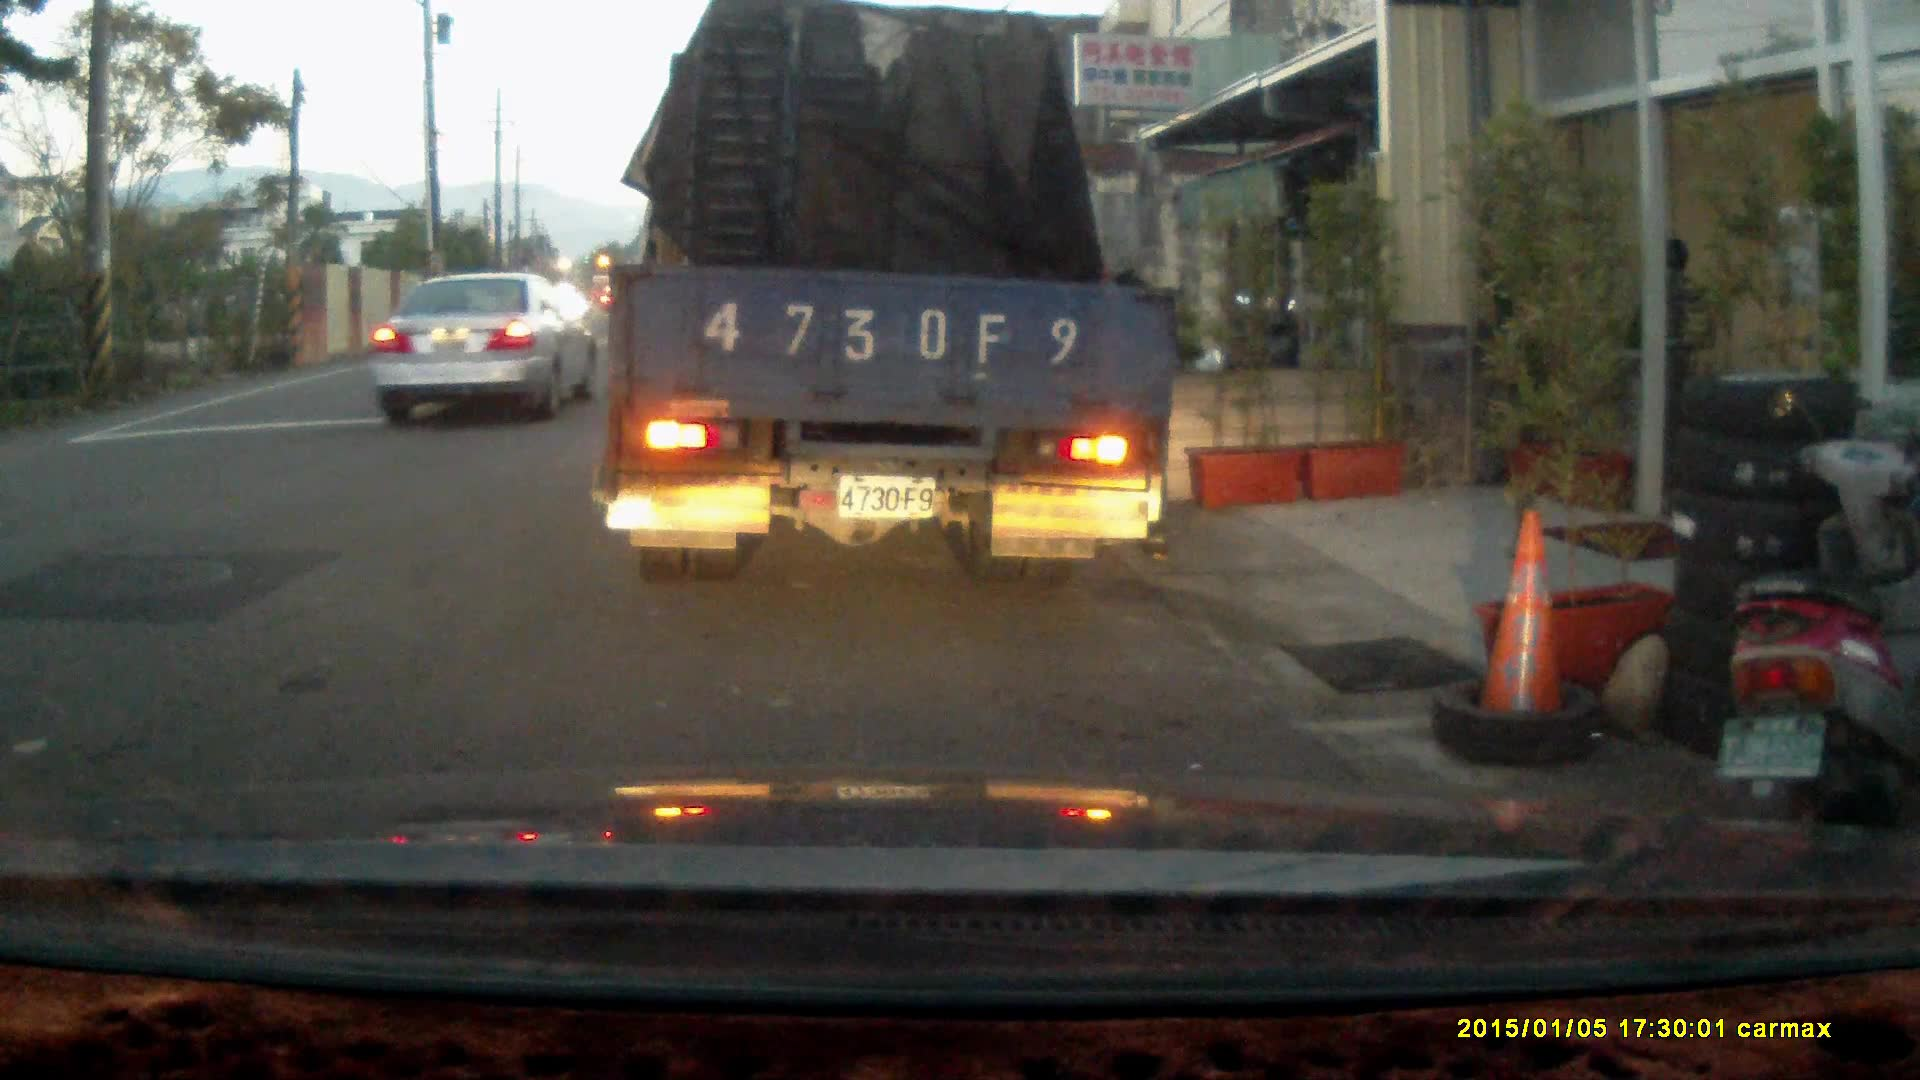pedestrian: (1630, 230, 1716, 479)
vehicle: (605, 23, 1188, 572), (369, 268, 601, 420)
